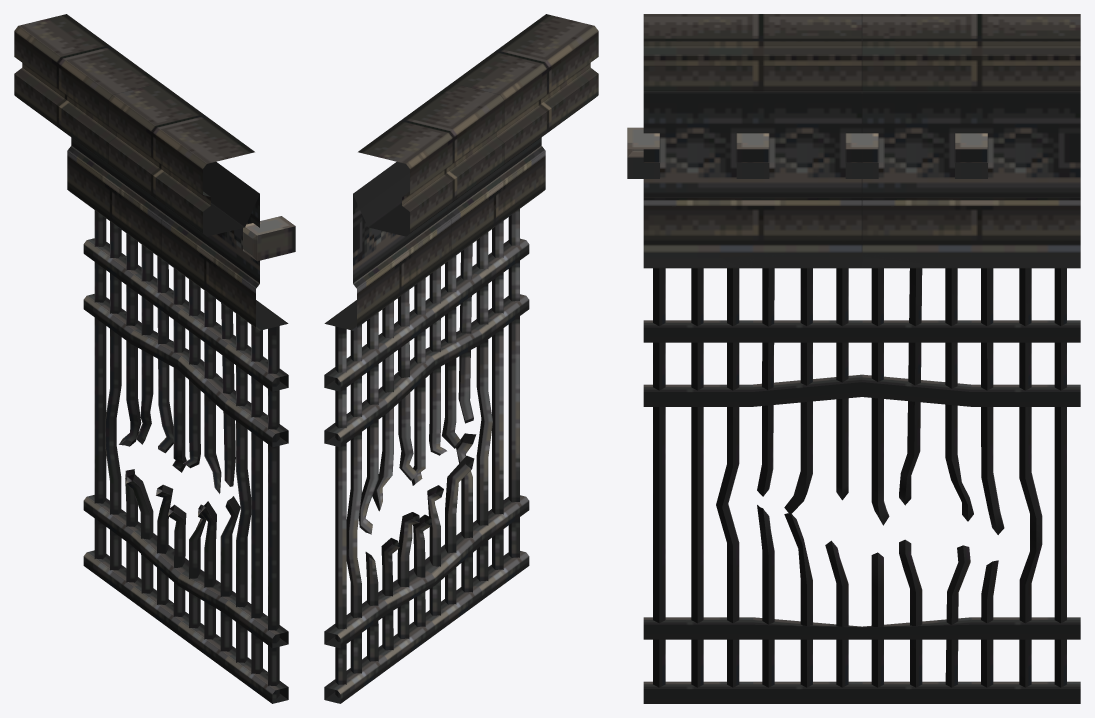
File: EnvMdrMD_Castle_A_Wall_B_Loop_Broken.FBX
The picture shows the model from 3 angles, left to right: view 1: azimuth 30°, elevation 25°; view 2: azimuth 150°, elevation 25°; view 3: azimuth 270°, elevation 25°; orthographic projection. The views are drawn at different scales.
Parts seen in each view (by area): view 1: EnvMdrMD_Castle_A_Wall_B_Loop_Broken; view 2: EnvMdrMD_Castle_A_Wall_B_Loop_Broken; view 3: EnvMdrMD_Castle_A_Wall_B_Loop_Broken.
Part boxes in pixels (x1=…): EnvMdrMD_Castle_A_Wall_B_Loop_Broken: x1=14, y1=14, x2=295, y2=703; EnvMdrMD_Castle_A_Wall_B_Loop_Broken: x1=324, y1=14, x2=598, y2=703; EnvMdrMD_Castle_A_Wall_B_Loop_Broken: x1=627, y1=14, x2=1080, y2=703.
Bounding box in the file's own units: 111 × 650 × 415.
Materials: 1 (1 with a texture image).
